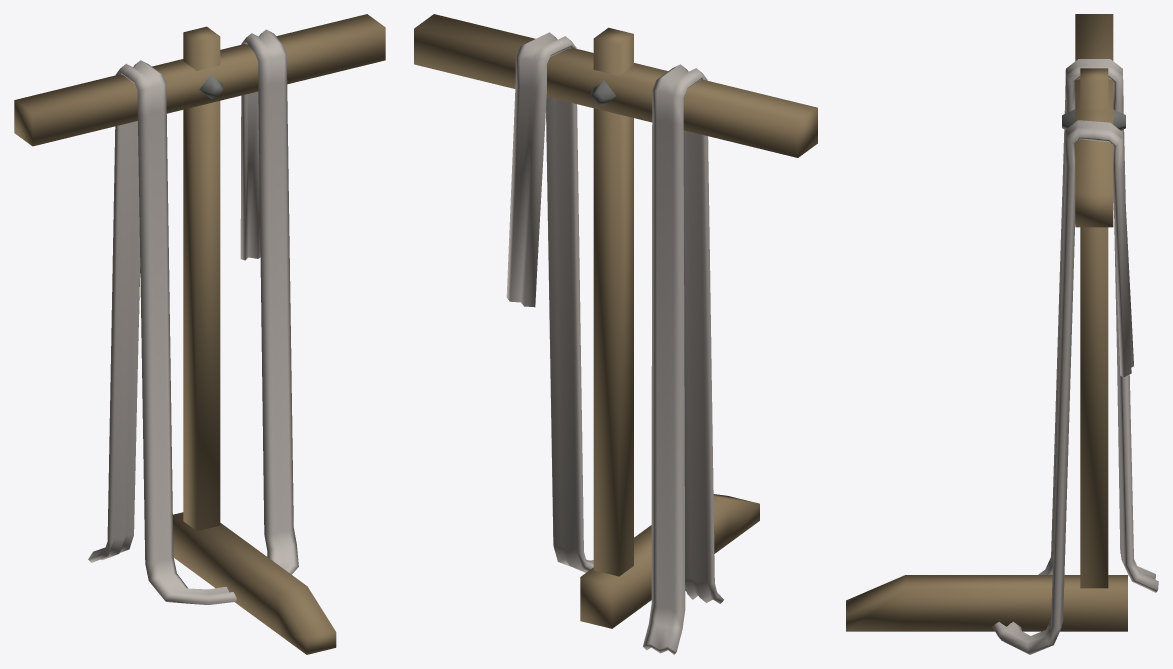
The model's file is rpgpp_ag_cloth_tool_02.fbx.
3 renders of one model, left to right at view 1: azimuth 30°, elevation 25°; view 2: azimuth 150°, elevation 25°; view 3: azimuth 270°, elevation 25°, orthographic. The views are drawn at different scales.
Parts seen in each view (by area): view 1: rpgpp_ag_cloth_tool_02; view 2: rpgpp_ag_cloth_tool_02; view 3: rpgpp_ag_cloth_tool_02.
Boxes of the visible parts, bbox=[...] form: rpgpp_ag_cloth_tool_02: bbox=[14, 14, 385, 654]; rpgpp_ag_cloth_tool_02: bbox=[414, 14, 817, 654]; rpgpp_ag_cloth_tool_02: bbox=[846, 14, 1158, 654].
Size of the model in its own units: 0.7917 by 1.14 by 0.5851.
